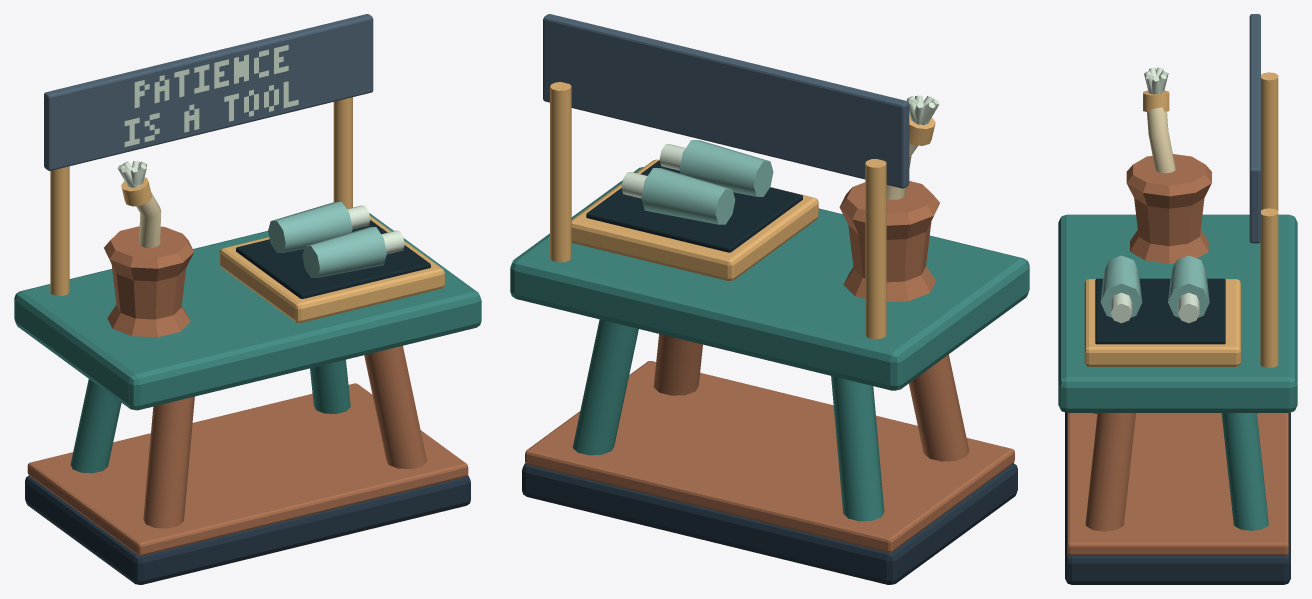
3 renders of one model, left to right at view 1: azimuth 30°, elevation 25°; view 2: azimuth 150°, elevation 25°; view 3: azimuth 270°, elevation 25°, orthographic. The views are drawn at different scales.
Visible parts, largest first — view 1: PR044 enamel and hardware; view 2: PR044 enamel and hardware; view 3: PR044 enamel and hardware.
Part boxes in pixels (x1,y1,x2,y2): PR044 enamel and hardware: (14,14,481,584); PR044 enamel and hardware: (510,14,1029,584); PR044 enamel and hardware: (1058,14,1297,584).
Bounding box in the file's own units: 0.872 × 1 × 0.5213.
